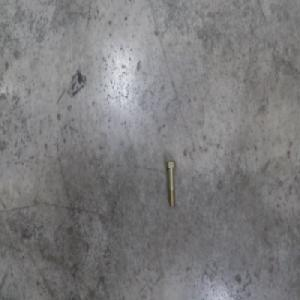Bolt: (165, 159, 176, 207)
